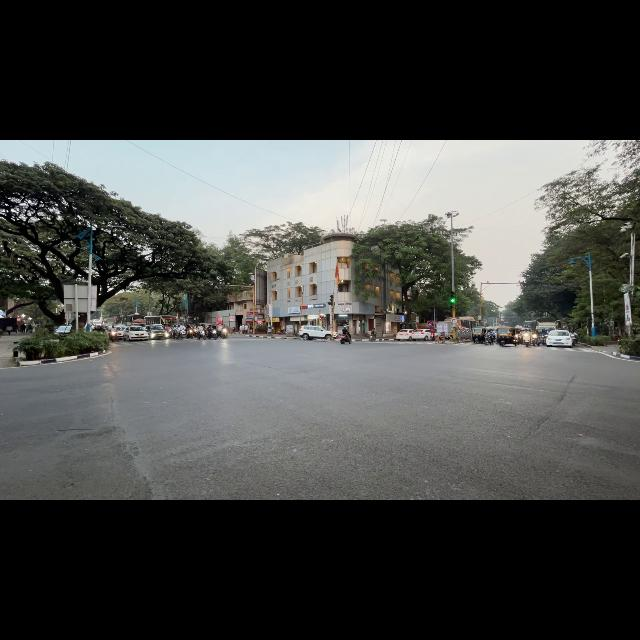bus: (145, 315, 177, 326), (125, 314, 145, 325), (457, 317, 476, 328), (524, 320, 536, 329)
car: (546, 330, 572, 348), (299, 326, 331, 340), (124, 326, 148, 340), (146, 325, 169, 339), (54, 325, 71, 337), (412, 329, 430, 340), (396, 329, 414, 340), (115, 326, 126, 339)
motorcycle: (522, 333, 532, 347), (172, 329, 184, 339), (531, 334, 541, 346), (484, 335, 496, 345), (207, 328, 217, 339), (339, 335, 351, 344), (109, 330, 118, 341), (186, 328, 195, 338), (197, 330, 205, 339), (571, 334, 577, 345), (222, 328, 227, 338), (370, 331, 376, 339), (278, 329, 286, 334)
truck: (536, 318, 556, 332)
